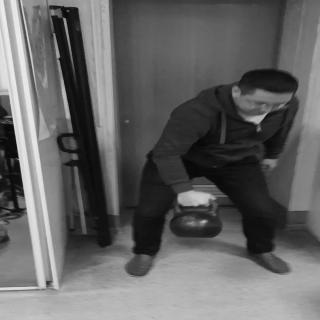girya: (170, 198, 223, 239)
